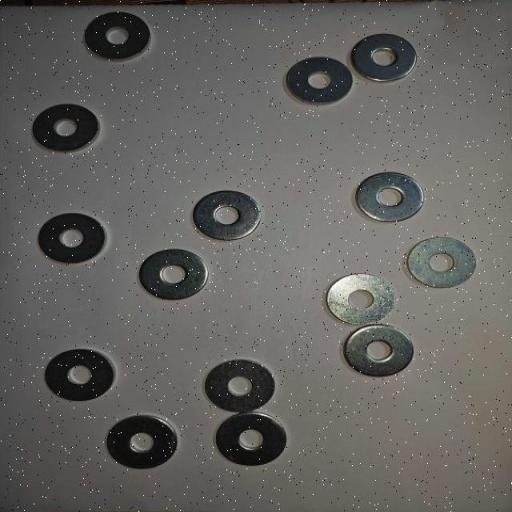washer: (106, 414, 178, 470), (204, 358, 275, 414), (216, 412, 286, 467), (45, 348, 116, 402), (344, 324, 414, 378), (139, 248, 208, 301), (38, 212, 107, 265), (406, 237, 476, 289), (355, 172, 425, 223), (326, 273, 394, 325), (192, 190, 261, 241), (84, 12, 151, 63), (286, 56, 354, 106), (32, 104, 100, 154), (350, 33, 416, 82)
